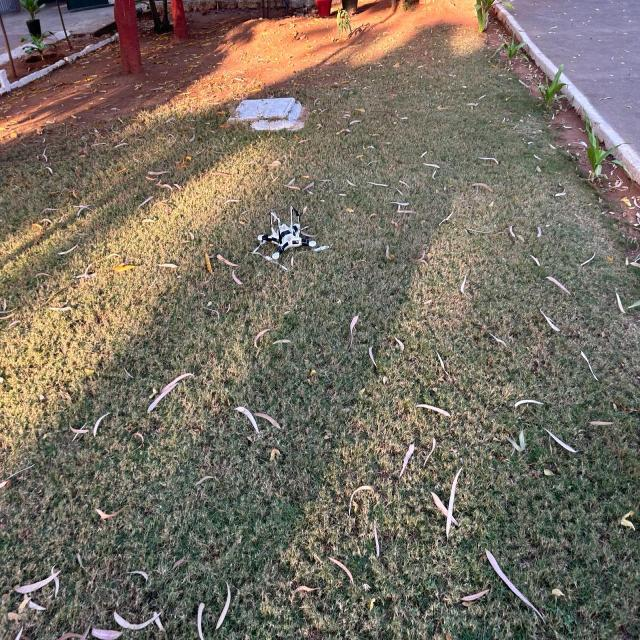drone: (242, 180, 333, 290)
